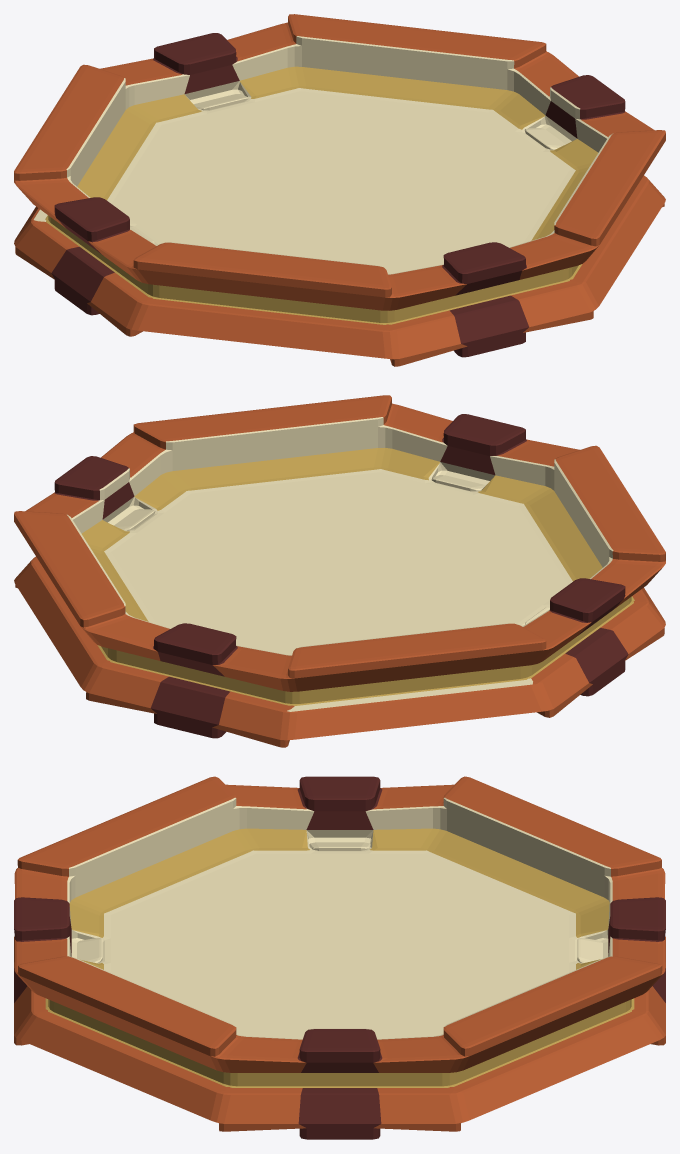
The model's file is chip01.fbx.
3 views of the same model, one above another, from view 1: azimuth 30°, elevation 25°; view 2: azimuth 150°, elevation 25°; view 3: azimuth 270°, elevation 25° (orthographic). The views are drawn at different scales.
Visible parts, largest first — view 1: 立方体; view 2: 立方体; view 3: 立方体.
Boxes of the visible parts, <box> form: 立方体: <box>14,14,665,366</box>; 立方体: <box>14,395,665,747</box>; 立方体: <box>14,776,665,1139</box>.
Bounding box in the file's own units: 200 × 30.7 × 200.
